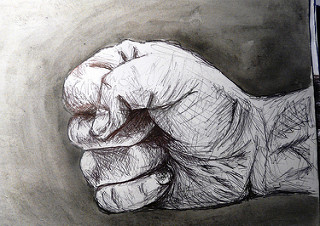fist: (65, 44, 255, 211)
